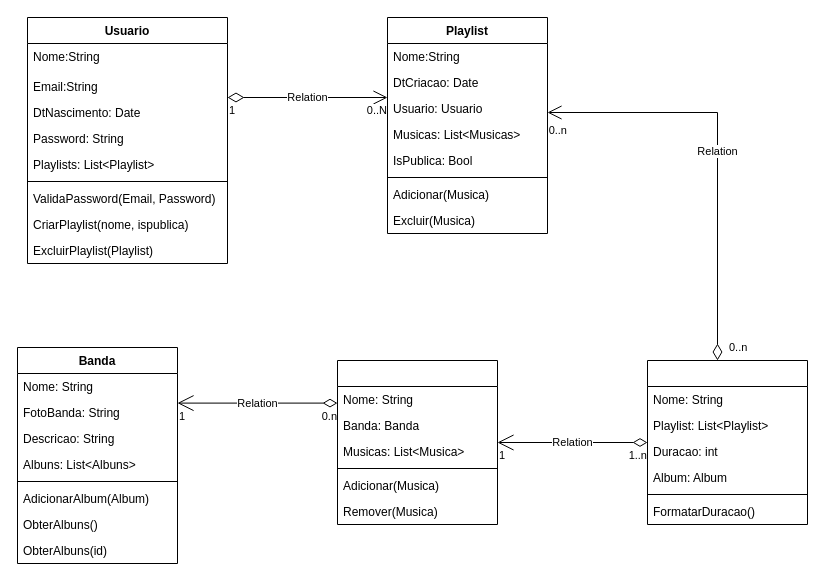
Image size: 825x584. Some labels were removed from this diagram. Each missing label, with the box of its shape:
Album: (336, 360, 498, 524)
Musica: (646, 360, 808, 524)
